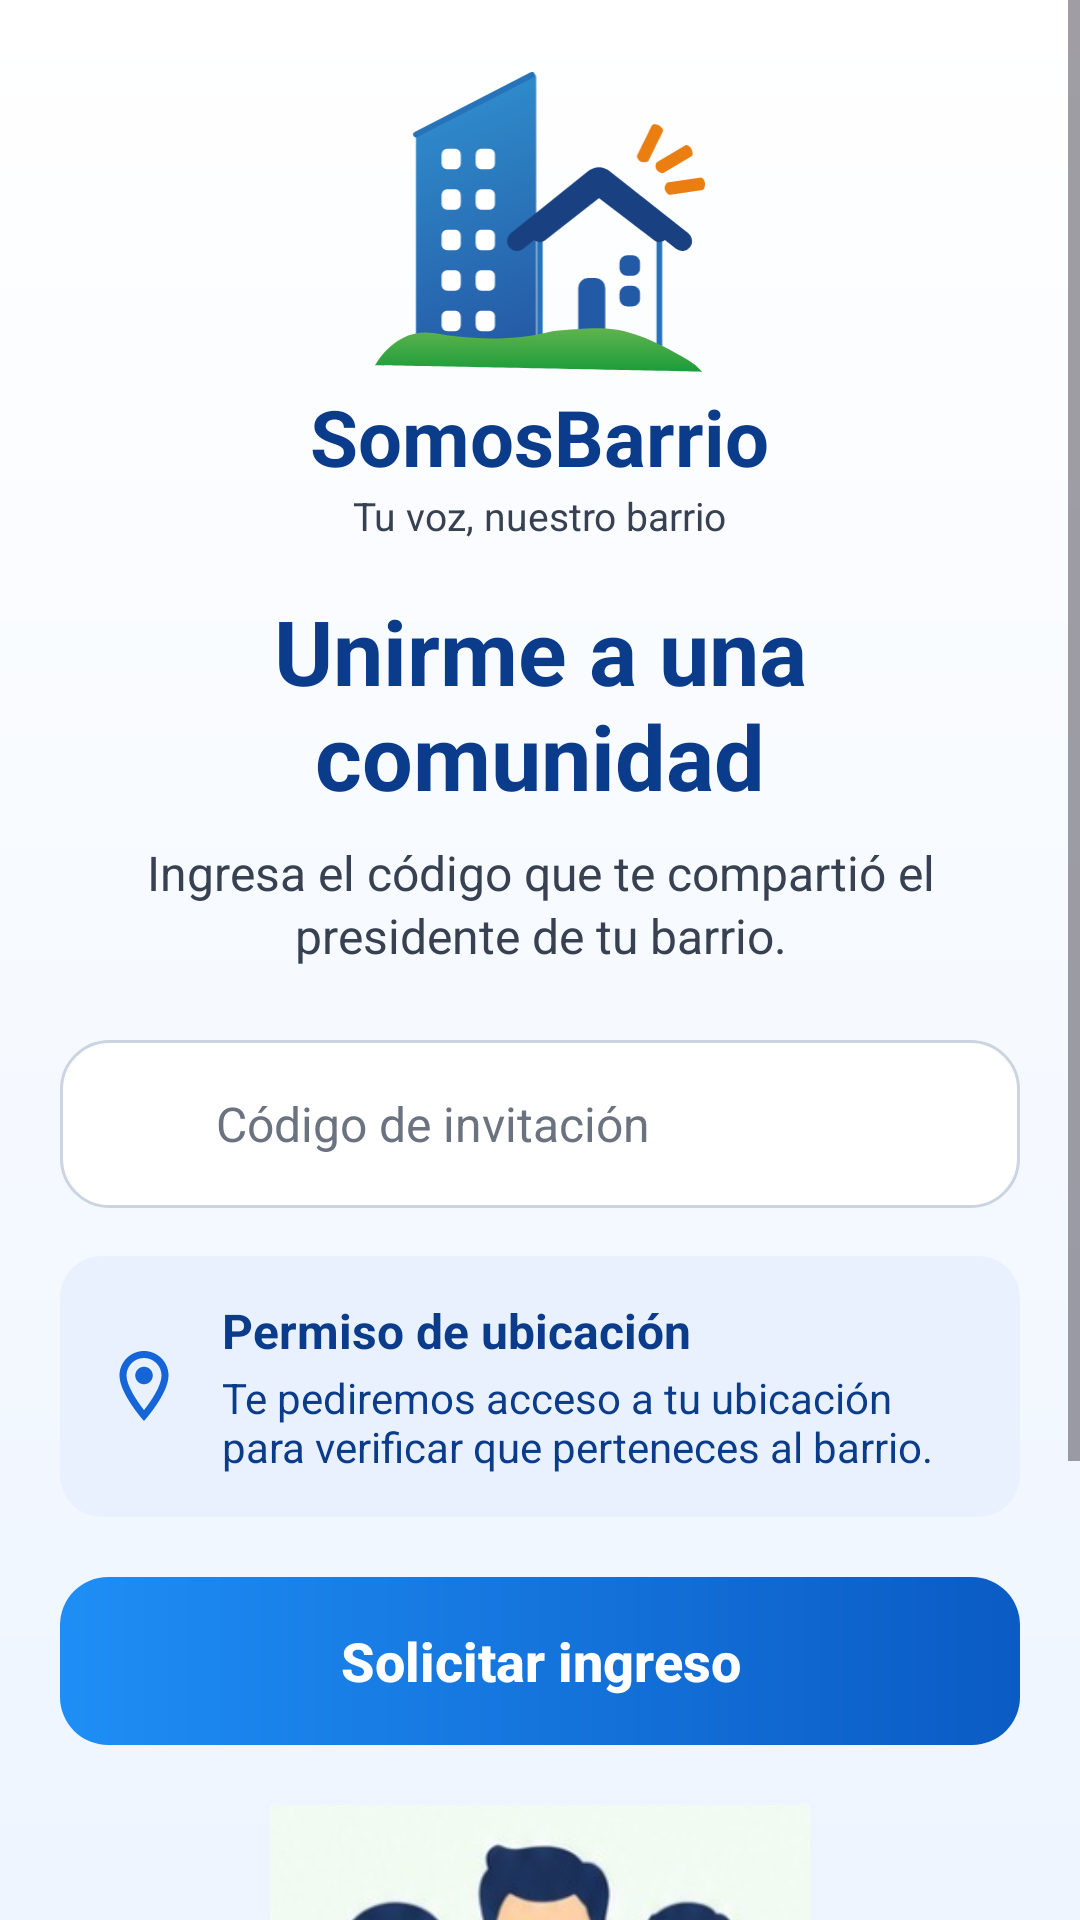

Point at icon controls on the screen. Image size 1080w x 1920h, points as point (x, y).
location: point (144, 1386)
